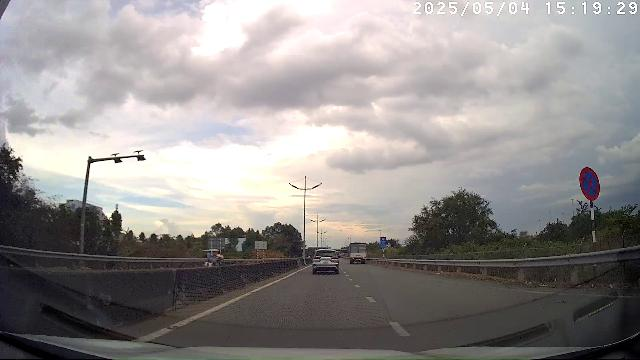130-cam-dung-va-do-xe: (579, 165, 601, 201)
